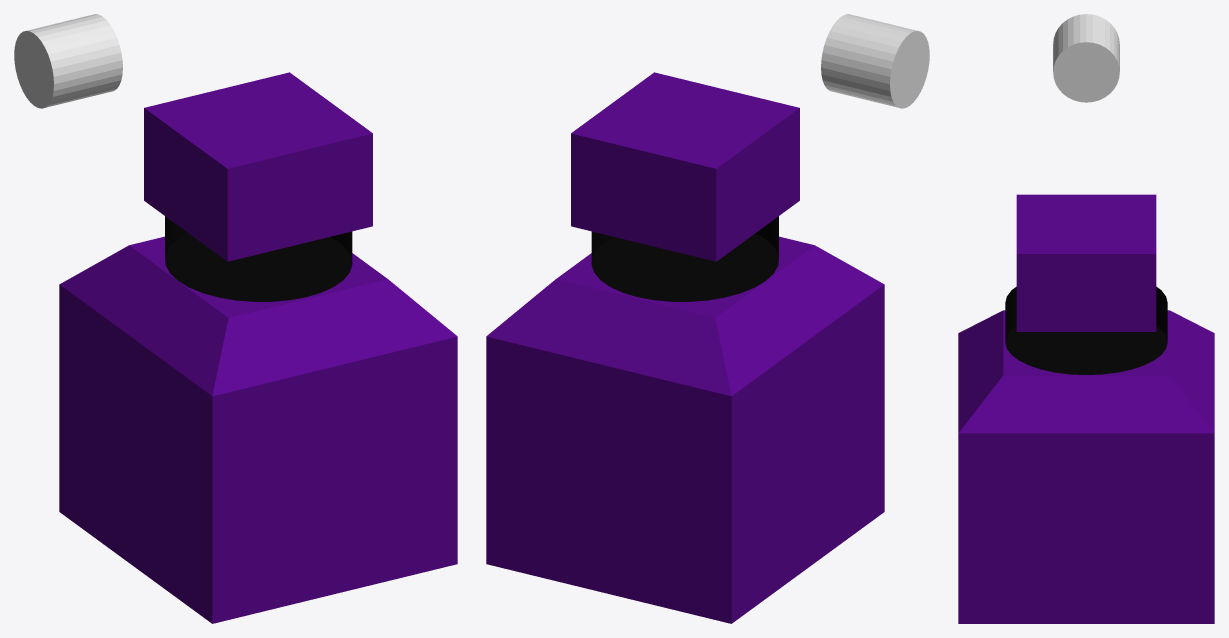
Rendered from protectiontower3_2.fbx.
3 views of the same model, side by side, from view 1: azimuth 30°, elevation 25°; view 2: azimuth 150°, elevation 25°; view 3: azimuth 270°, elevation 25° (orthographic). The views are drawn at different scales.
Visible parts, largest first — view 1: Cube.001, Cube.002, Cylinder, Cylinder.001; view 2: Cube.001, Cube.002, Cylinder, Cylinder.001; view 3: Cube.001, Cube.002, Cylinder, Cylinder.001.
Boxes of the visible parts, x1=… form: Cube.001: x1=59, y1=236, x2=457, y2=623; Cube.002: x1=144, y1=72, x2=372, y2=261; Cylinder: x1=165, y1=216, x2=352, y2=301; Cylinder.001: x1=14, y1=14, x2=122, y2=108; Cube.001: x1=486, y1=236, x2=884, y2=623; Cube.002: x1=571, y1=72, x2=799, y2=261; Cylinder: x1=591, y1=216, x2=778, y2=301; Cylinder.001: x1=821, y1=14, x2=929, y2=108; Cube.001: x1=958, y1=310, x2=1214, y2=623; Cube.002: x1=1016, y1=194, x2=1156, y2=331; Cylinder: x1=1005, y1=286, x2=1167, y2=374; Cylinder.001: x1=1053, y1=14, x2=1119, y2=102.
Bounding box in the file's own units: 1007 × 1549 × 768.
